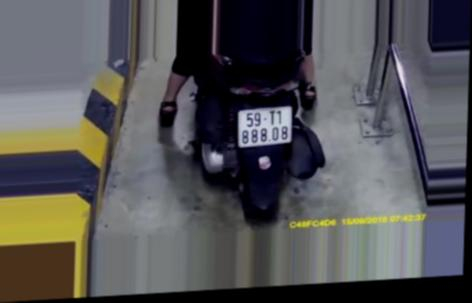License_Plate: (229, 101, 296, 152)
